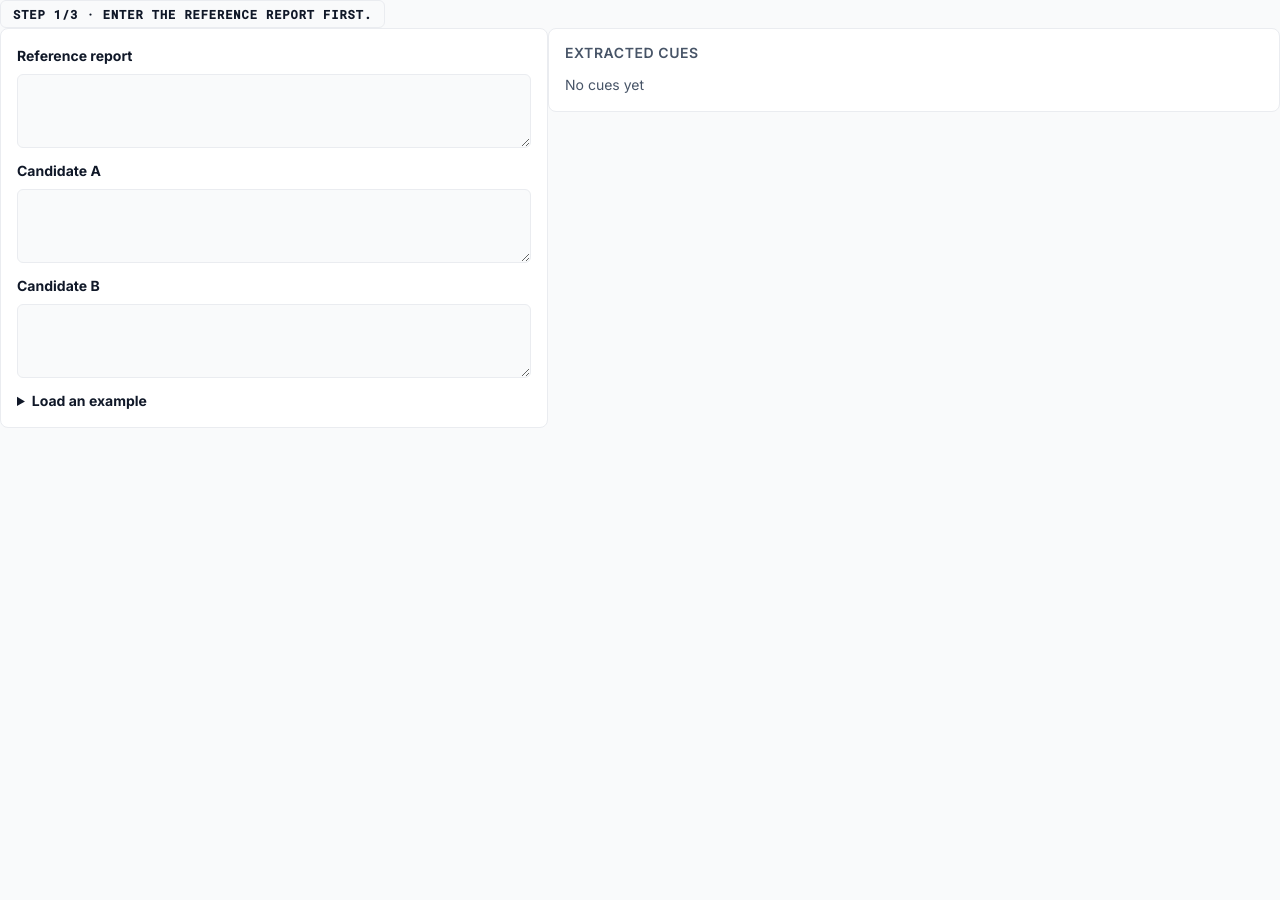
Test: report generation Playground › lets a single report edit change the visible clinical cue rows
Type "Right pneumothorax has improved. No pleural effusion." into the text box labelled "Reference report". click: coordinates (274, 111)
box: 17,74 -> 531,148
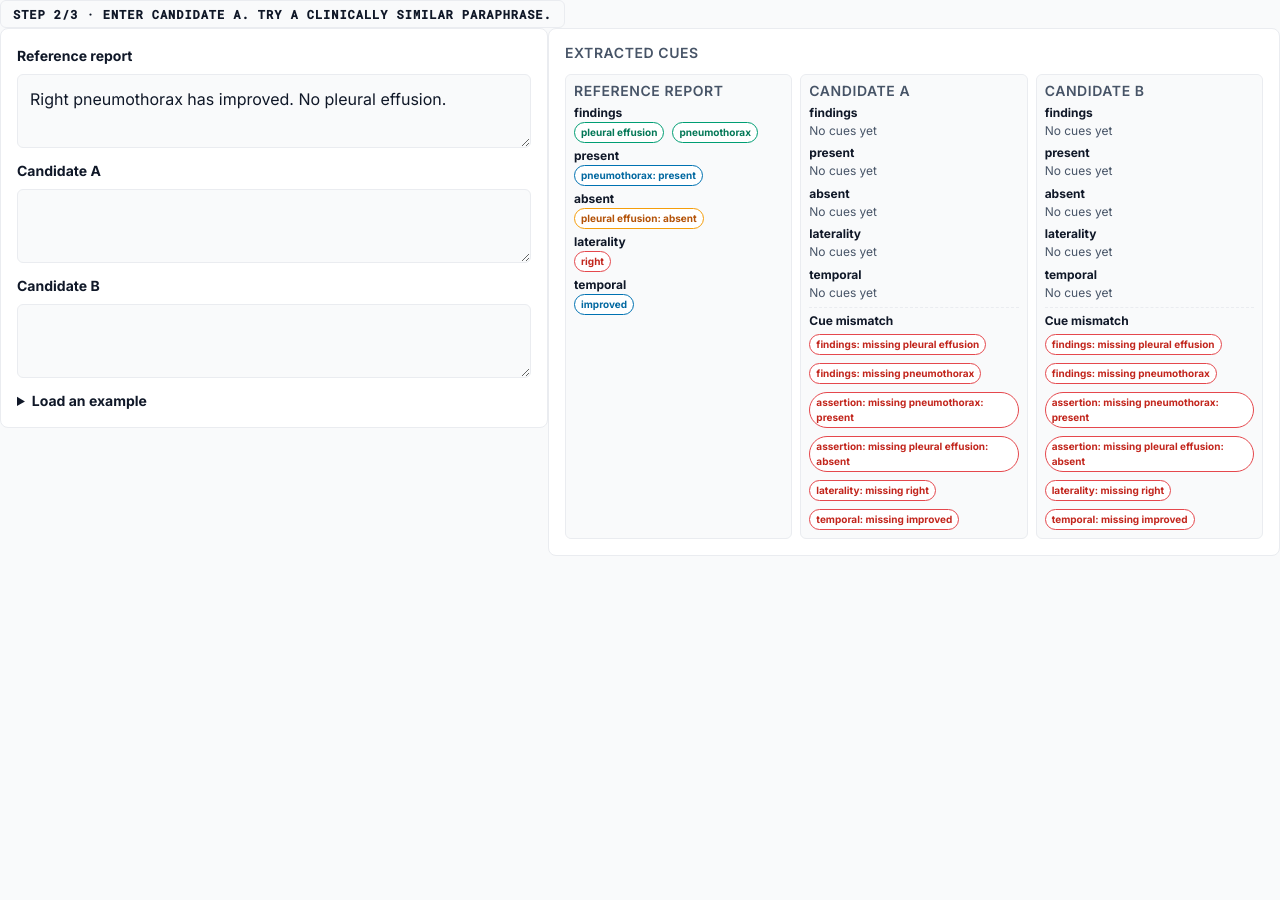
Type "Right pneumothorax has improved. No pleural effusion." into the text box labelled "Candidate A". click: coordinates (274, 226)
box: 17,189 -> 531,263
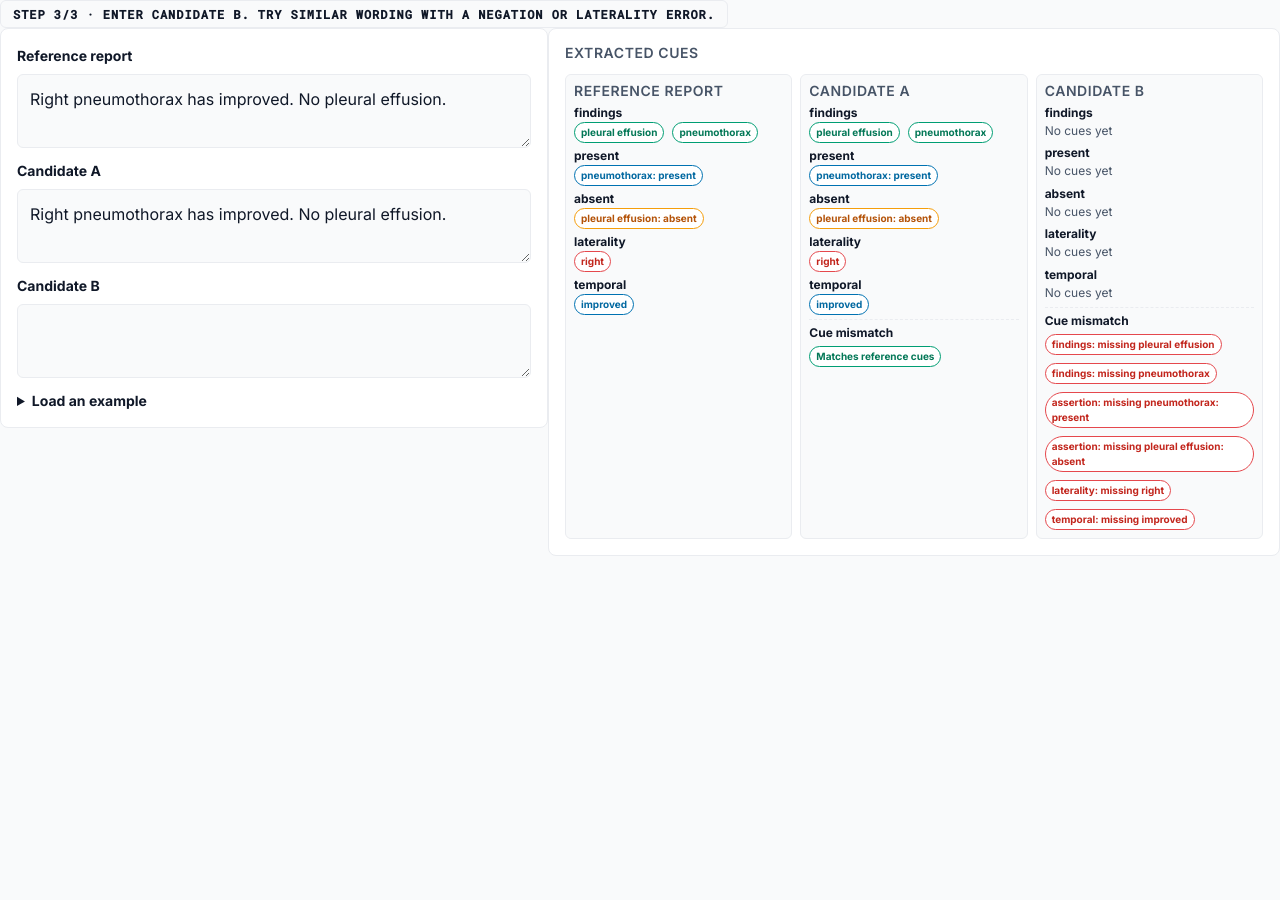
Type "Left pneumothorax has worsened. Pleural effusion is present." into the text box labelled "Candidate B". click: coordinates (274, 341)
box: 17,304 -> 531,378
(page scrolled)
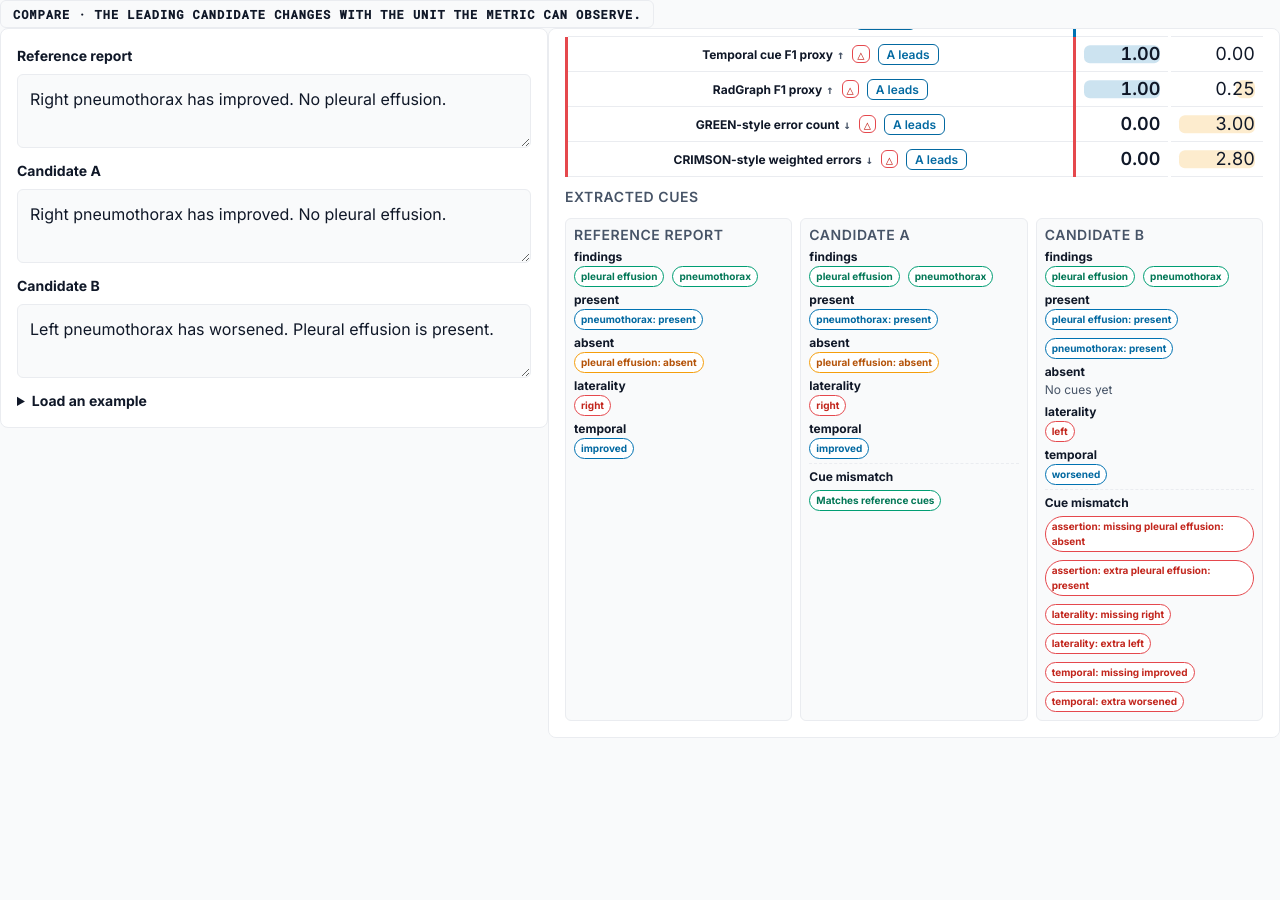
Now the text "assertion: missing pleural effusion: absent" is shown, box 1045,516 -> 1254,552
Now the column heading "Temporal cue F1 proxy↑ △ A leads" is shown, box 566,37 -> 1074,72
Now the column heading "GREEN-style error count↓ △ A leads" is shown, box 566,107 -> 1074,142
